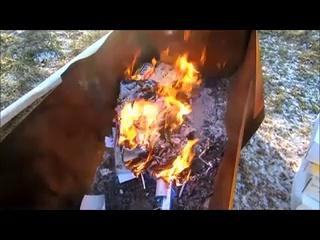Fire: (120, 48, 195, 180)
